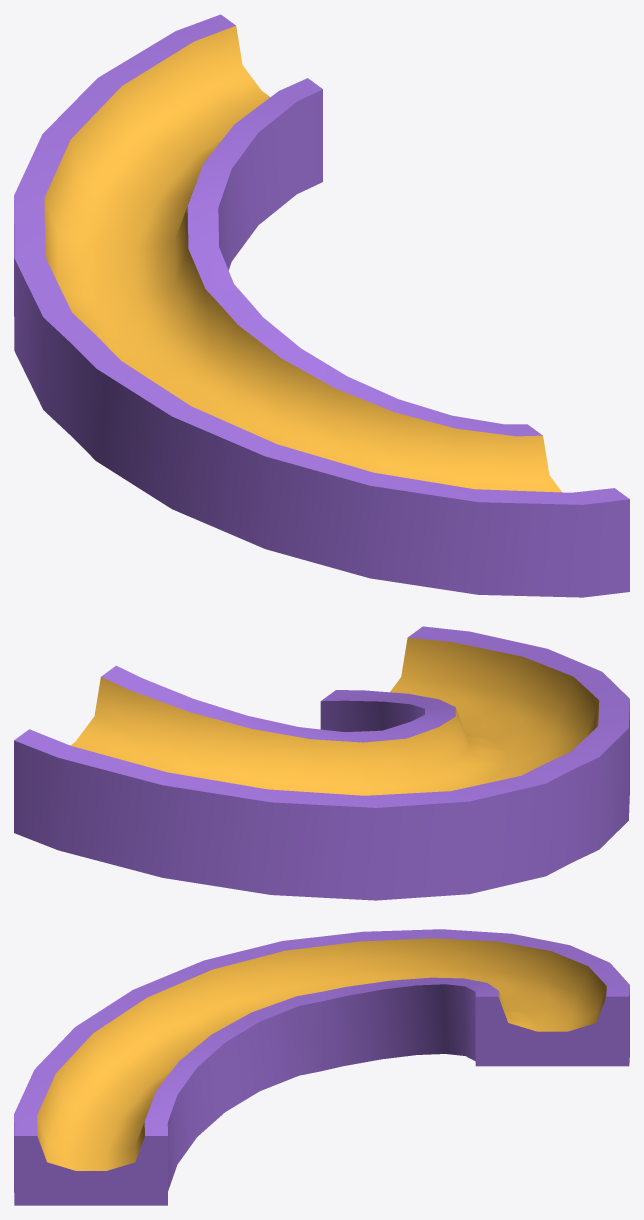
Rendered from helix-half-right-col.glb.
3 renders of one model, top to bottom at view 1: azimuth 30°, elevation 25°; view 2: azimuth 150°, elevation 25°; view 3: azimuth 270°, elevation 25°, orthographic. The views are drawn at different scales.
Visible parts, largest first — view 1: helix-half-right-col; view 2: helix-half-right-col; view 3: helix-half-right-col.
Boxes of the visible parts, x1,y1,x2,y2 form: helix-half-right-col: (14,14,629,597); helix-half-right-col: (14,626,629,900); helix-half-right-col: (14,929,629,1205).
Size of the model in its own units: 2 by 1.5 by 4.01.
Materials: 1 (1 with a texture image).
